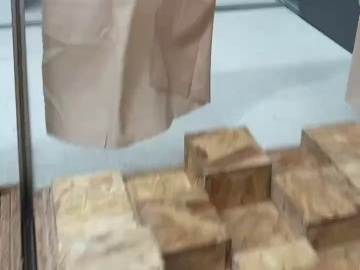curtain: (36, 0, 360, 146)
